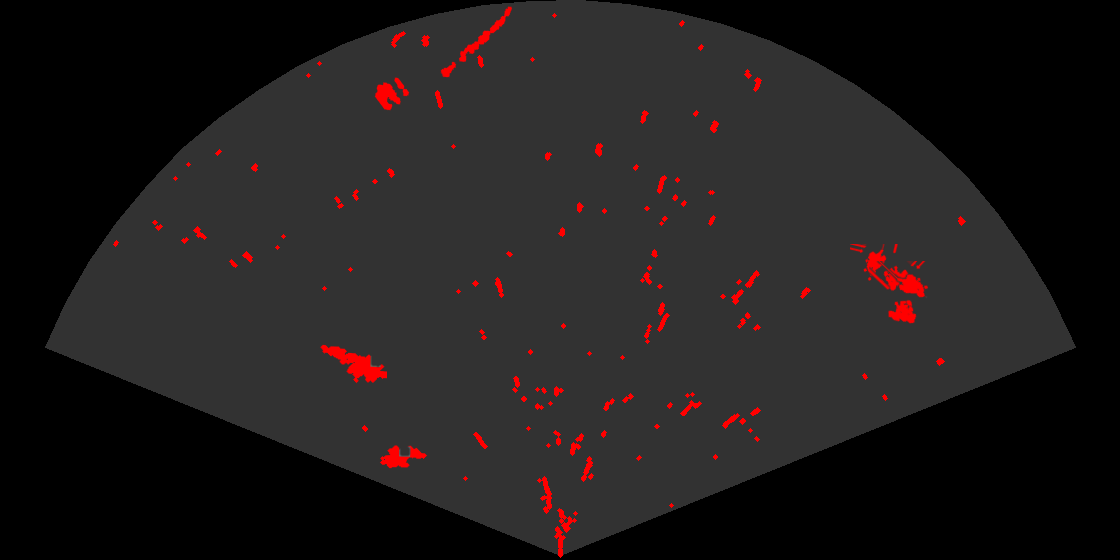AUV: (378, 444, 429, 470)
ball: (373, 76, 411, 112)
cage: (869, 261, 930, 325), (850, 244, 910, 293)
chain: (439, 5, 514, 79)
frogman: (319, 343, 387, 385)
